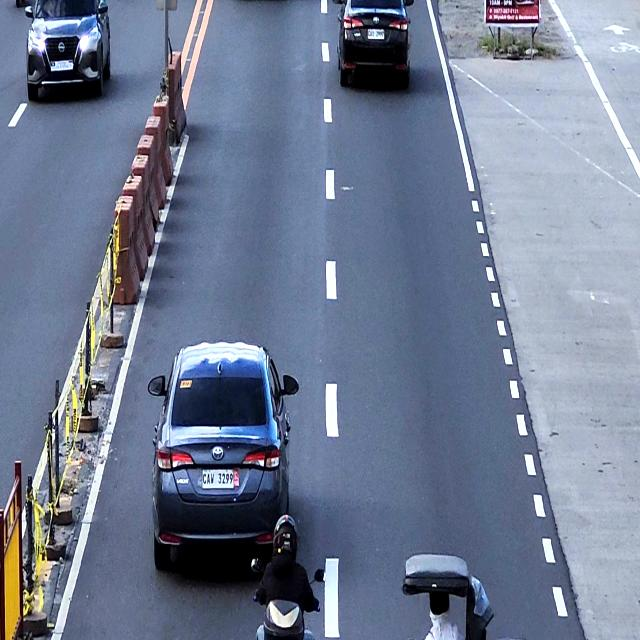Car: (148, 340, 298, 570), (24, 0, 111, 101), (335, 0, 414, 87)
License-Plate: (201, 469, 234, 490), (50, 60, 75, 72), (367, 28, 385, 41)
Motorcycle: (248, 556, 325, 640)
Tricycle: (401, 552, 528, 640)
